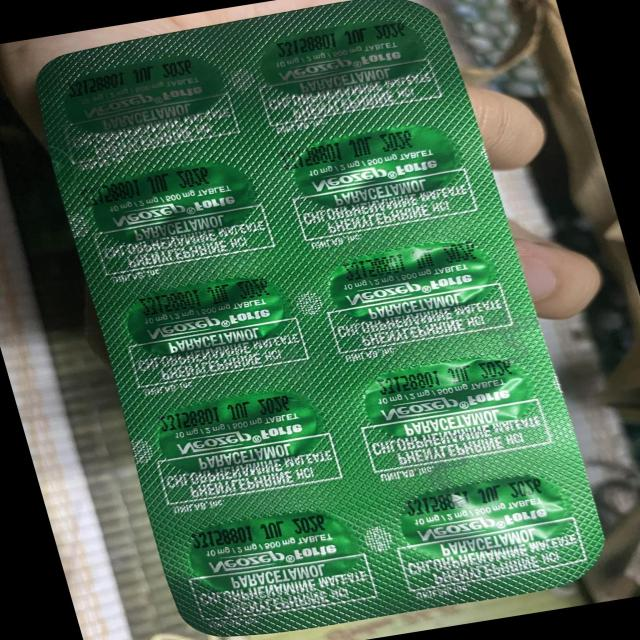Neozep_Strip: (30, 0, 618, 640)
